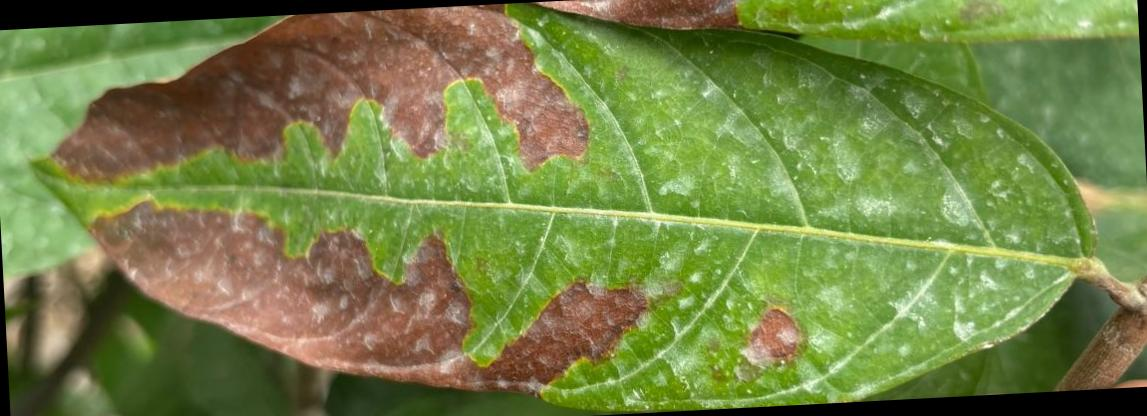Potasio: (33, 0, 1095, 409)
